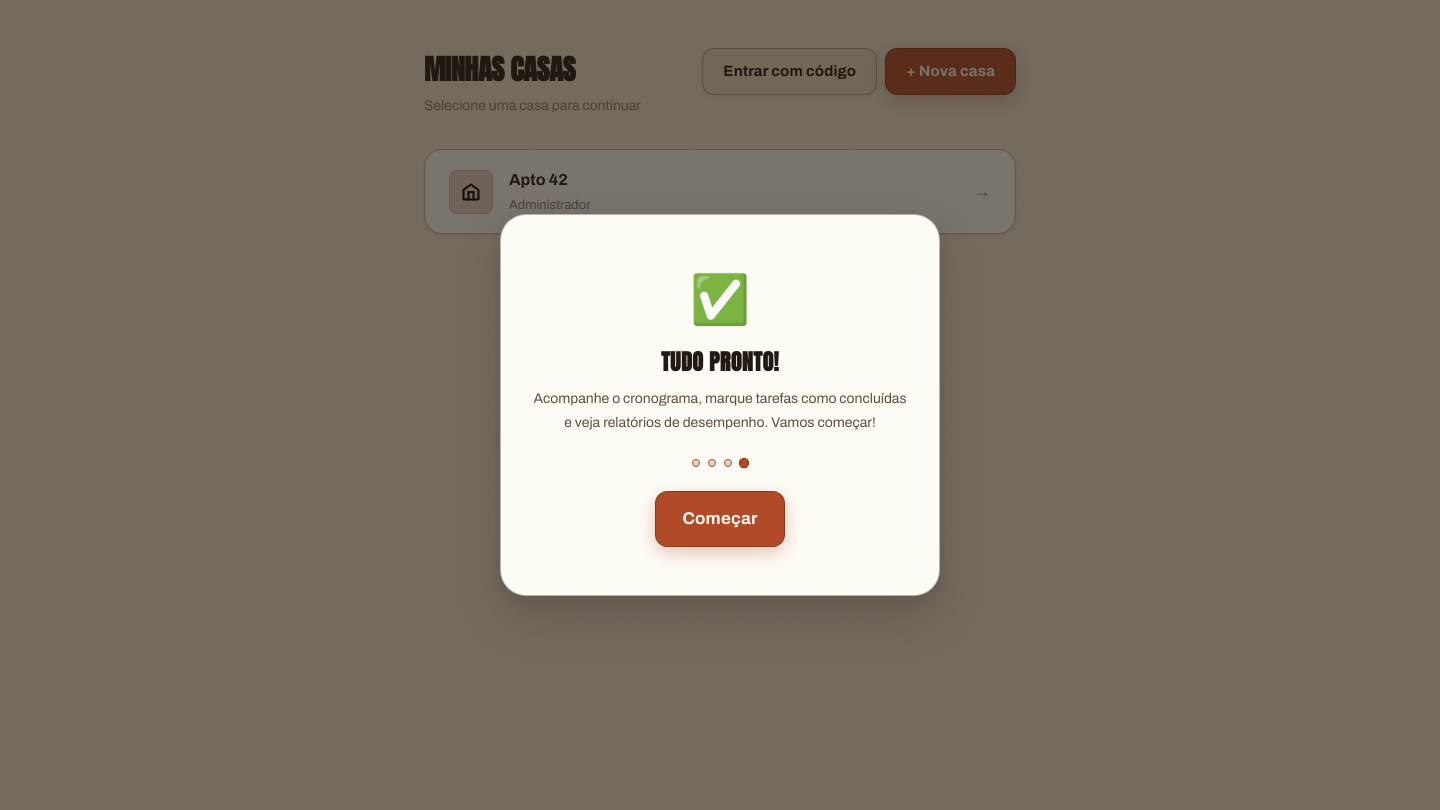
Test: Houses page — onboarding overlay › hides onboarding overlay when completed status returned from advanceOnboarding
The image size is (1440, 810).
Click the button "Começar" at (720,519), box top-left (655, 491), bottom-right (785, 547)
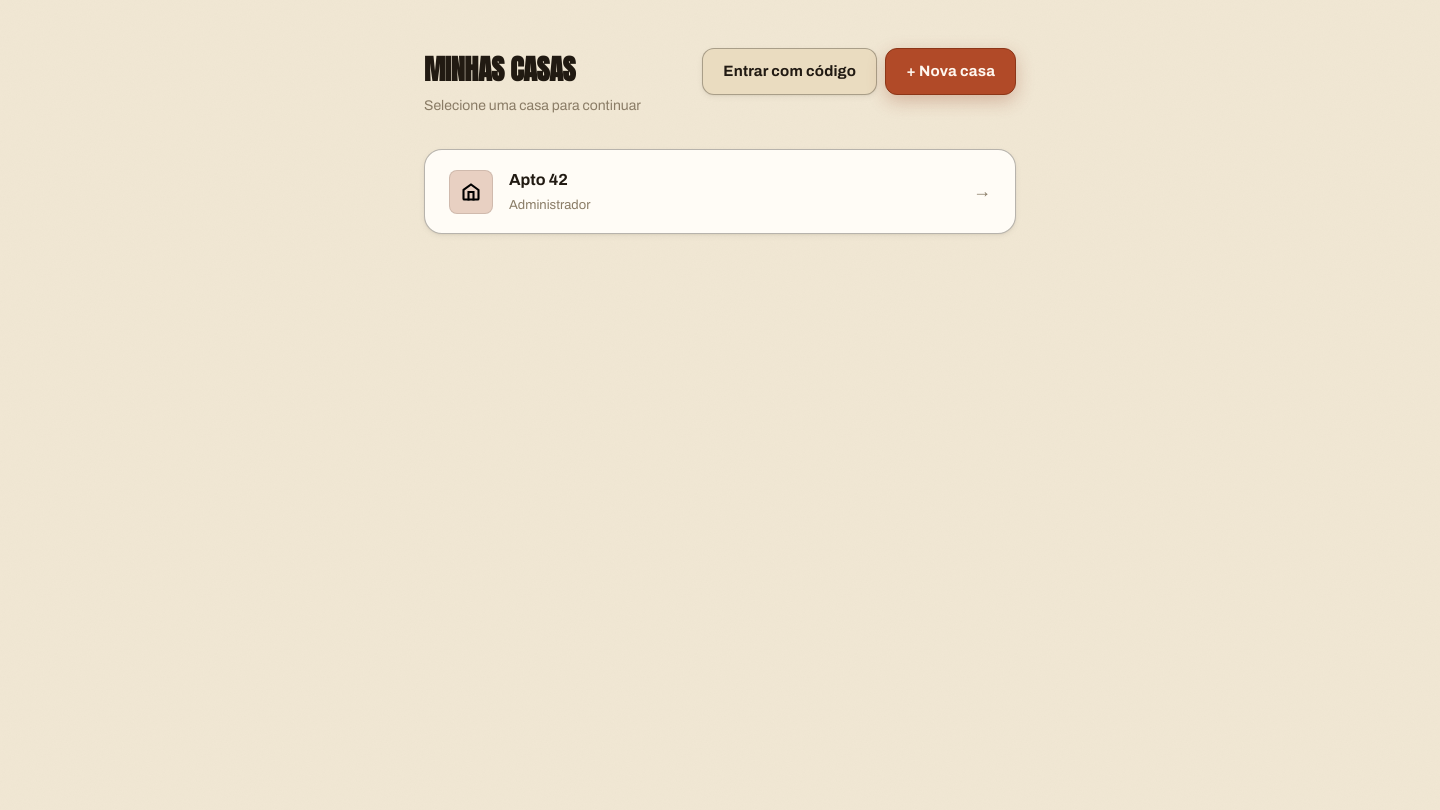
Expected: the heading "Tudo pronto!" is gone
